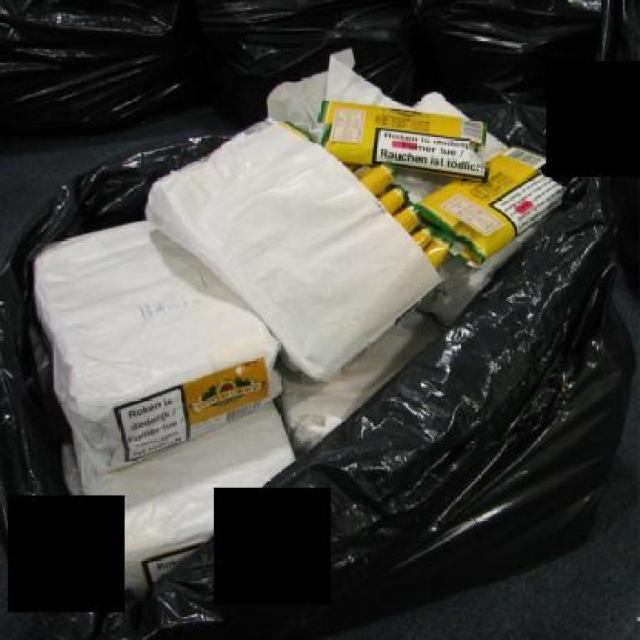plastic bag: (0, 90, 638, 638), (0, 0, 209, 154), (178, 0, 401, 118), (397, 2, 600, 102), (581, 0, 640, 175)
